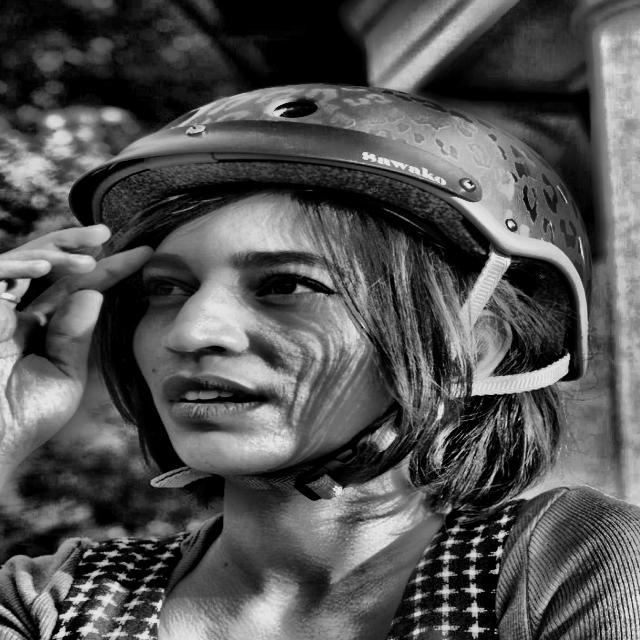Helmet: (62, 72, 600, 537)
